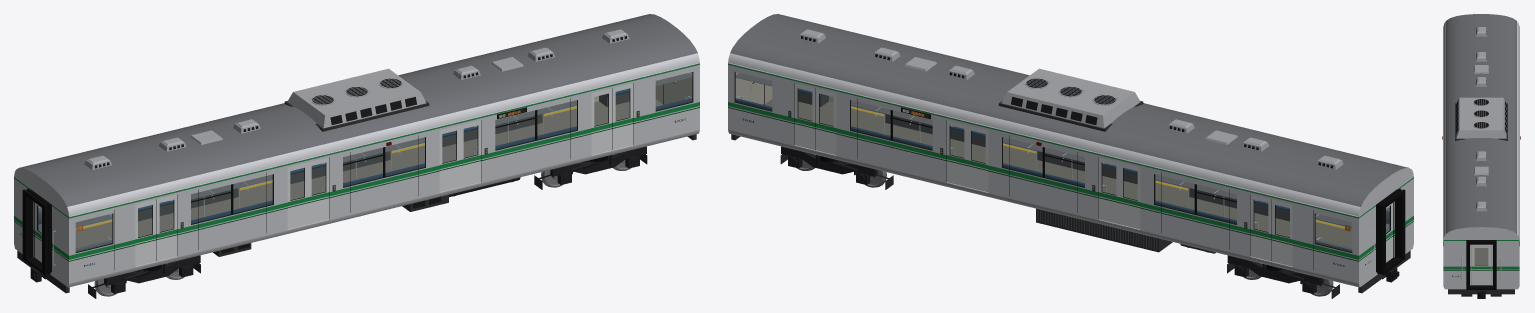
Rendered from r122_M_near.glb.
The picture shows the model from 3 angles, left to right: view 1: azimuth 30°, elevation 25°; view 2: azimuth 150°, elevation 25°; view 3: azimuth 270°, elevation 25°; orthographic projection. The views are drawn at different scales.
Visible parts, largest first — view 1: body_shell, ext_windows, interior_shell, opt_ac, interior_seats, interior_racks, end_R, roof_vents, bogie_rear, bogie_front, ext_fittings_signs, door_R2f (+9 smaller); view 2: body_shell, ext_windows, interior_shell, opt_ac, interior_seats, underfloor, interior_racks, end_R, roof_vents, bogie_rear, bogie_front, ext_fittings_signs (+9 smaller); view 3: body_shell, opt_ac, gw_door_F, end_F, roof_vents, ext_fittings_signs, underfloor, interior_shell, roof_equipment, opt_snow_guard.
Part boxes in pixels (x1,y1,x2,y2): body_shell: (14,14,699,287); ext_windows: (76,72,692,252); interior_shell: (34,72,693,266); opt_ac: (284,68,429,131); interior_seats: (38,88,692,251); interior_racks: (75,72,692,227); end_R: (20,188,55,275); roof_vents: (84,29,629,169); bogie_rear: (94,255,200,296); bogie_front: (541,146,646,187); ext_fittings_signs: (69,63,699,269); door_R2f: (460,120,481,187); body_shell: (728,14,1413,287); ext_windows: (735,72,1351,252); interior_shell: (734,72,1393,266); opt_ac: (998,68,1143,131); interior_seats: (735,88,1389,251); underfloor: (731,134,1410,293); interior_racks: (735,72,1352,227); end_R: (1365,188,1405,275); roof_vents: (798,29,1343,169); bogie_rear: (1227,255,1333,296); bogie_front: (781,146,886,187); ext_fittings_signs: (728,63,1358,269); body_shell: (1443,14,1519,289); opt_ac: (1455,97,1507,140); gw_door_F: (1471,244,1491,285); end_F: (1452,240,1501,289); roof_vents: (1476,27,1486,211); ext_fittings_signs: (1443,27,1519,239); underfloor: (1448,289,1514,298); interior_shell: (1471,245,1491,285); roof_equipment: (1474,65,1488,175); opt_snow_guard: (1461,294,1501,296).
Bounding box in the file's own units: 20.14 × 3.98 × 3.03.
38 materials, 5 textured.
